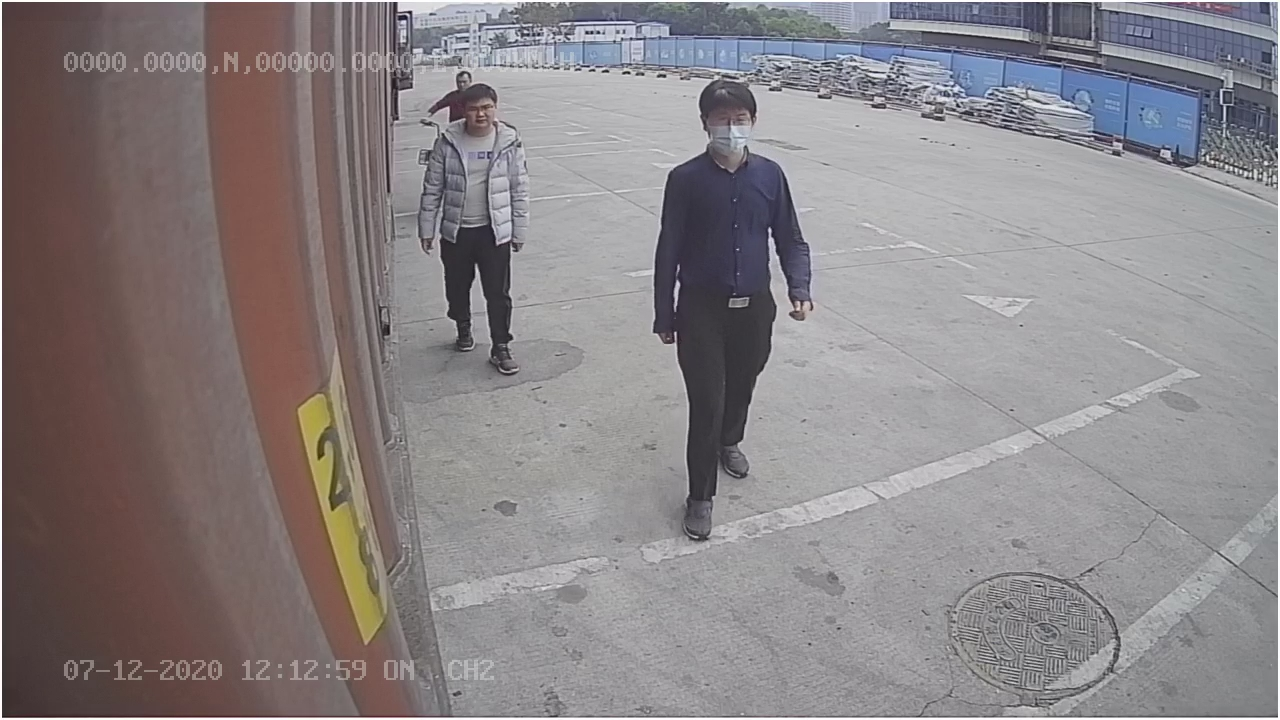person: (652, 75, 818, 539)
